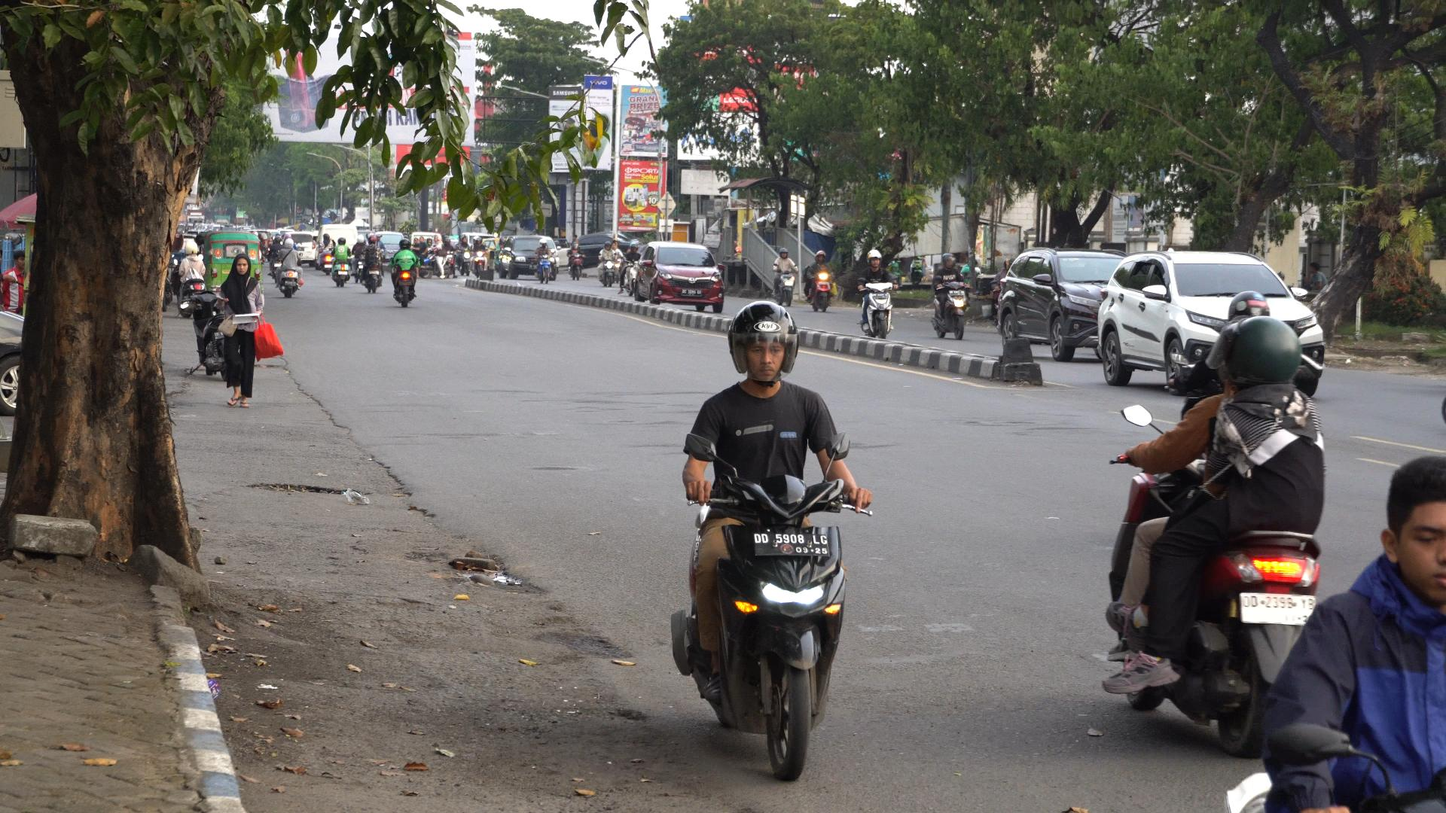number-plate: (752, 527, 832, 557)
